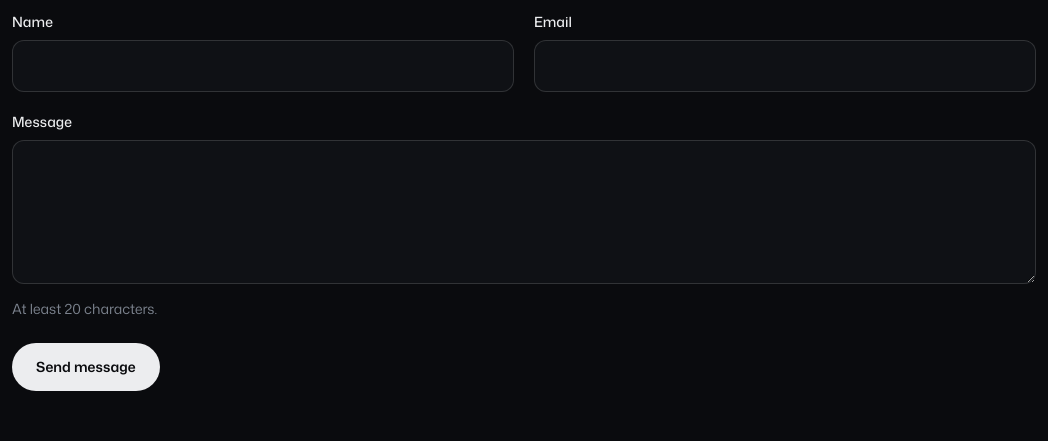
it: <ContactForm /> › shows a specific error for each empty field and does not send
Click the button "Send message".
click(86, 367)  # box [12,343,160,391]
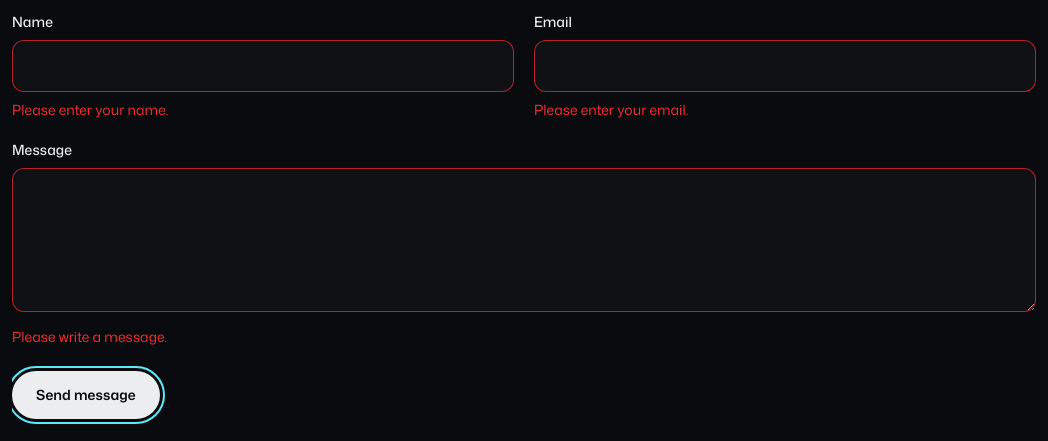
Now the text "Please enter your name." is shown, box [12,100,168,119]
Now the text "Please enter your email." is shown, box [534,100,688,119]
Now the text "Please write a message." is shown, box [12,327,167,346]
